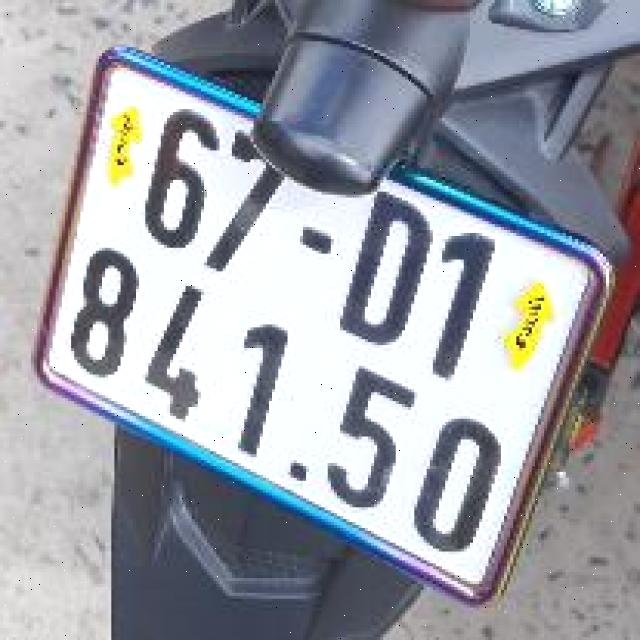0: (400, 405, 515, 569)
1: (406, 218, 505, 393), (213, 307, 297, 466)
4: (135, 269, 230, 432)
5: (316, 353, 423, 524)
6: (132, 99, 232, 269)
7: (196, 125, 306, 291)
8: (61, 237, 146, 393)
D: (327, 185, 445, 363)
